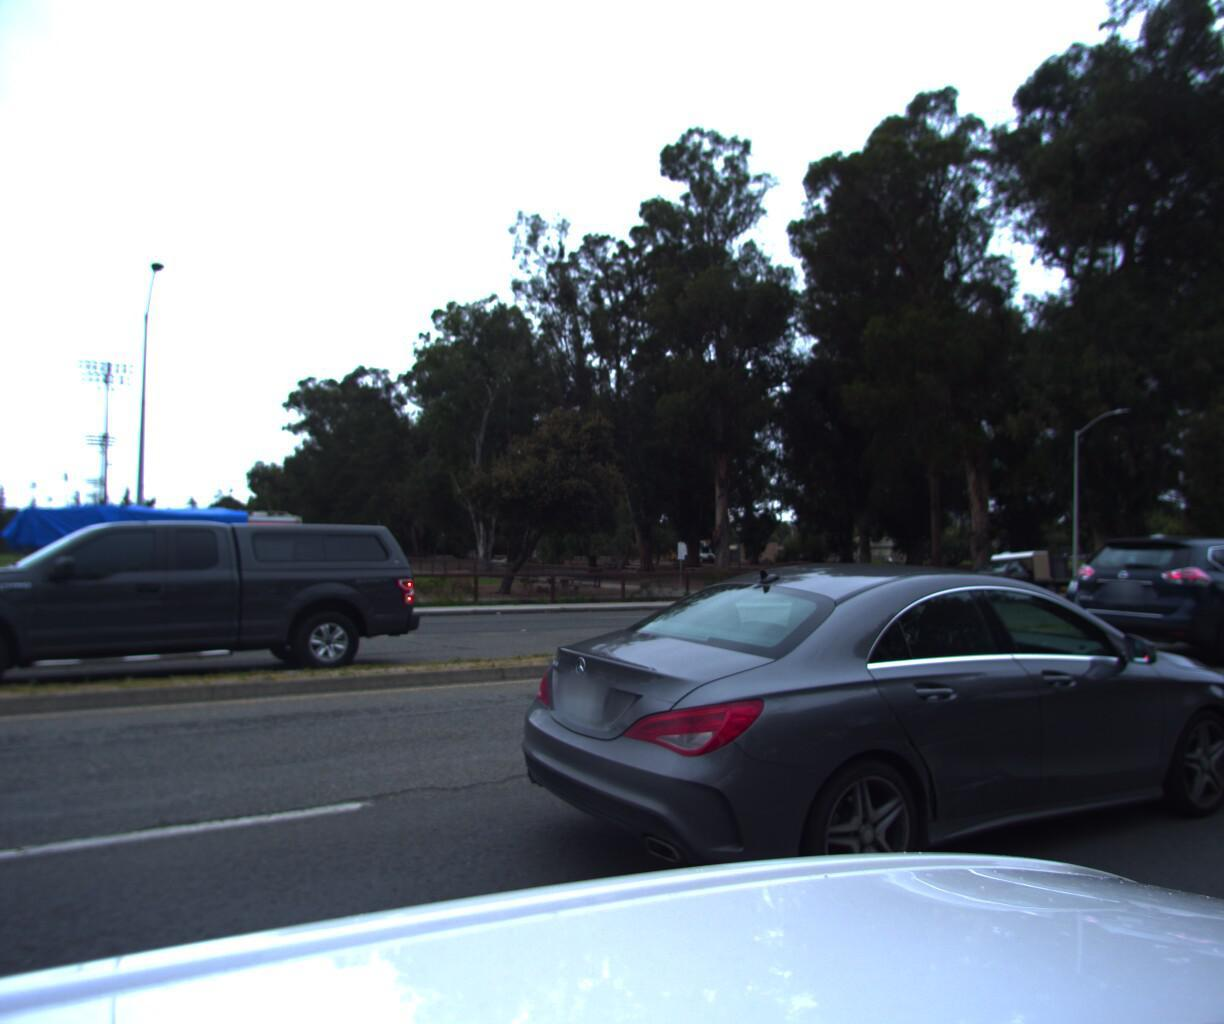car: (498, 559, 1224, 980), (0, 520, 430, 724), (1055, 522, 1224, 670), (935, 538, 1072, 595)
other_vehicle: (0, 501, 314, 645)
